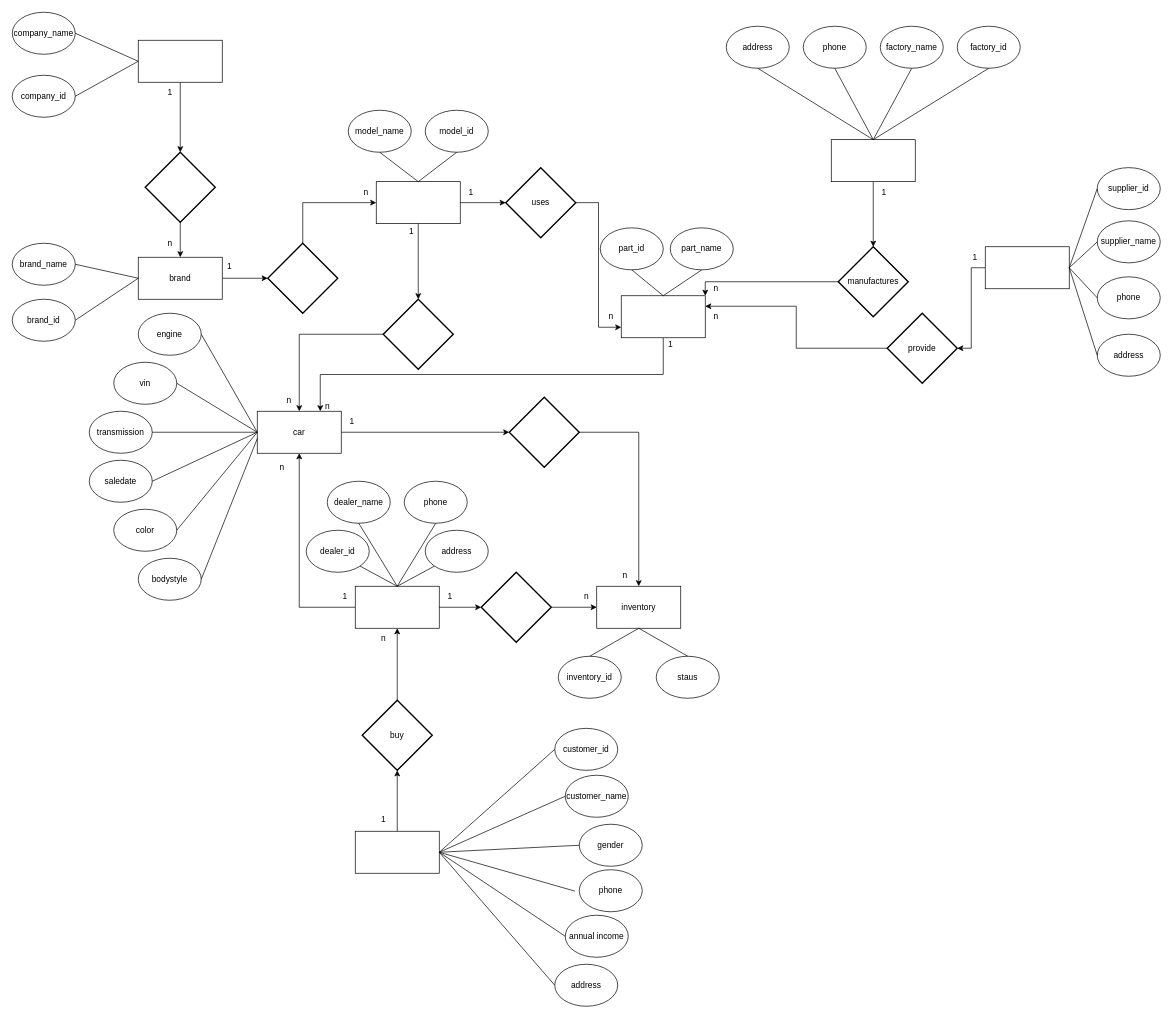
The diagram is 1173 pixels wide and 1019 high, and some of its shapes have lost their labels. Each missing label, with the centre of its shape:
company: (x=180, y=61)
customer: (x=397, y=852)
dealer: (x=397, y=607)
factory: (x=873, y=160)
holds: (x=516, y=607)
inculdes: (x=418, y=334)
model: (x=418, y=202)
owns: (x=180, y=187)
part: (x=663, y=316)
produces: (x=302, y=278)
supplier: (x=1027, y=267)
tracked by: (x=544, y=432)
